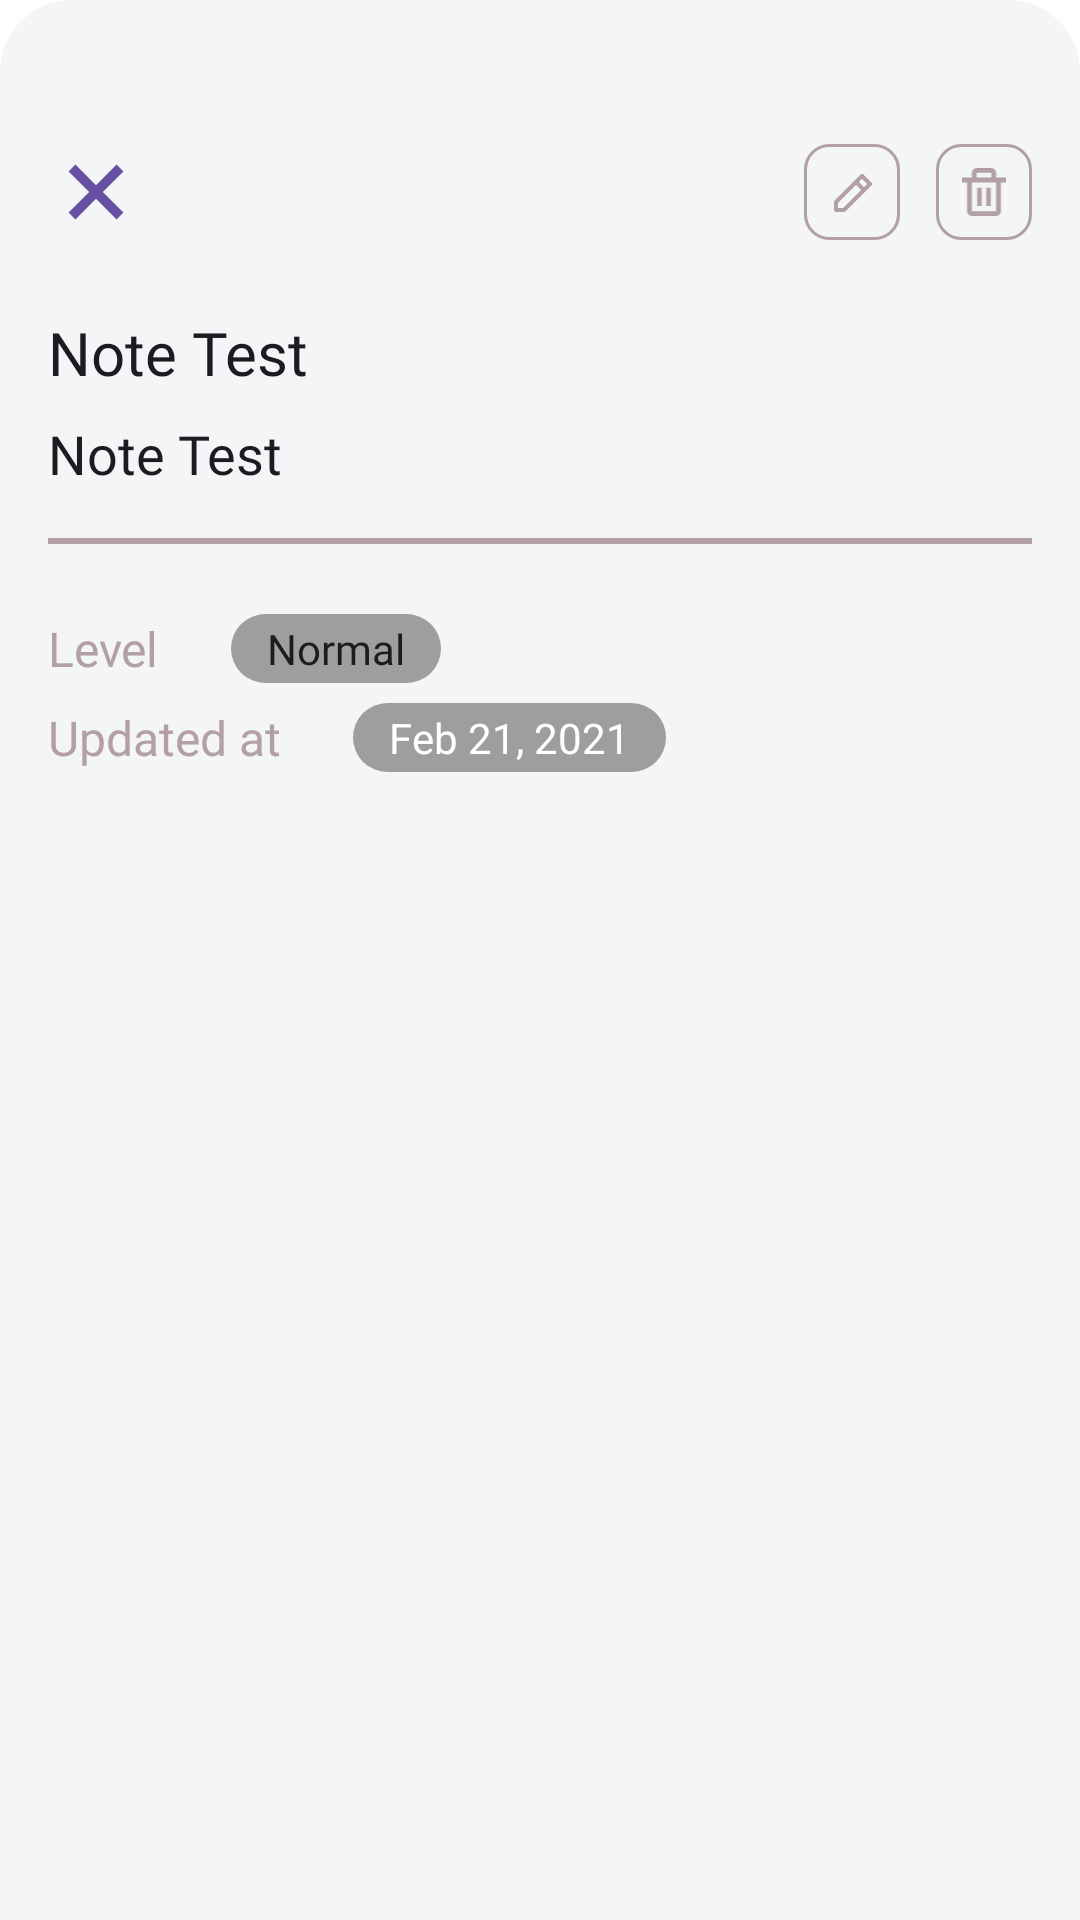

Icons on this 1080*1920 Android screen, each with its box as (x1, y1, x2, y2):
Close Bottom Sheet button: (68, 164, 124, 220)
Delete Item Bottom Sheet button: (936, 144, 1032, 240)
Edit Item Bottom Sheet button: (804, 144, 900, 240)
